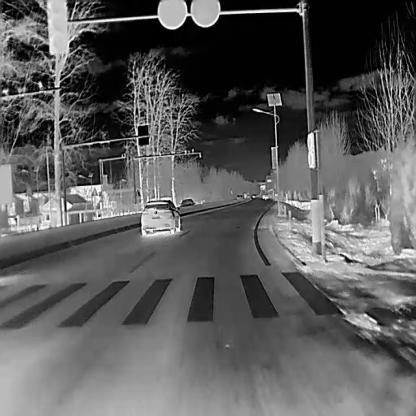car: (140, 198, 180, 236), (180, 198, 196, 208), (236, 193, 242, 199), (262, 193, 268, 199), (252, 194, 256, 198), (243, 192, 246, 197), (246, 194, 249, 198)
